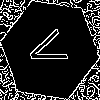V: (25, 25, 77, 72)
